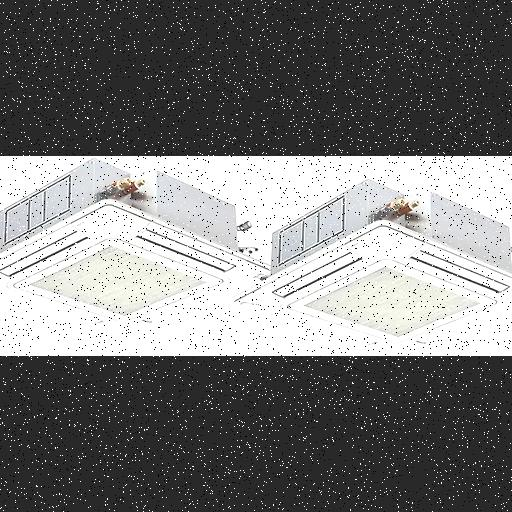4-way-ac: (235, 220, 512, 348), (0, 198, 265, 328)
